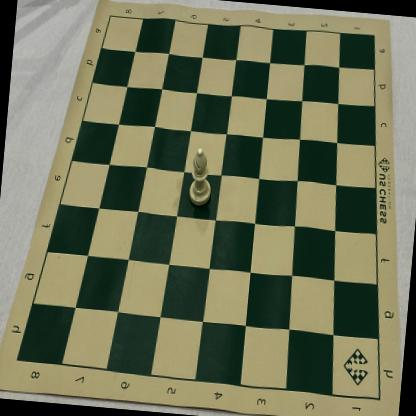white-bishop: (187, 147, 215, 208)
